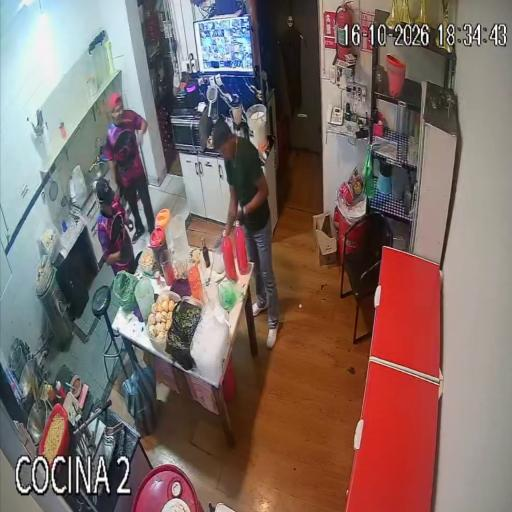Envase Ketchup: (57, 380, 66, 400)
Envase Llajua: (48, 388, 61, 405)
Jarra1: (150, 228, 166, 274)
Jarra2: (156, 209, 172, 244)
Jarra3: (170, 215, 189, 265)
Microondas: (171, 111, 208, 153)
Persona1: (104, 94, 154, 243)
Persona2: (96, 179, 134, 274)
Persona4: (214, 121, 278, 347)
Taper: (40, 225, 60, 261)
Taper2: (166, 296, 203, 370)
Taper3: (190, 304, 230, 384)
Taper4: (146, 290, 182, 352)
olla1: (19, 358, 38, 401)
